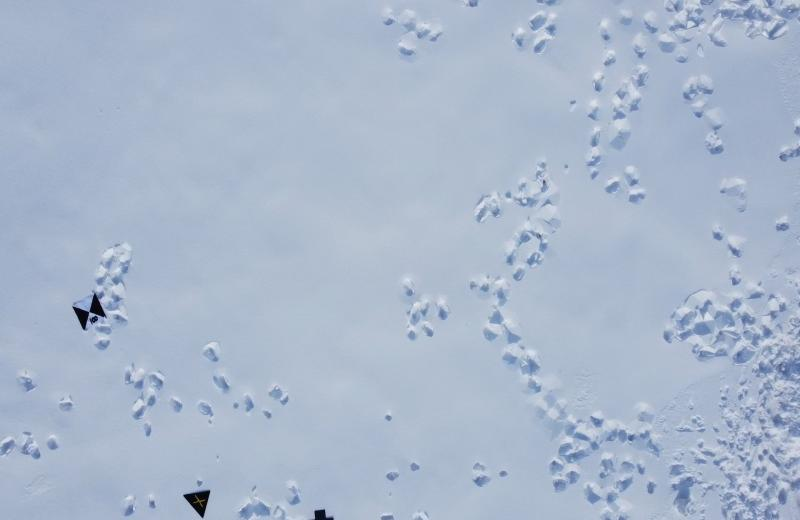Cross: (307, 505, 336, 520)
Triangle: (183, 488, 214, 520)
